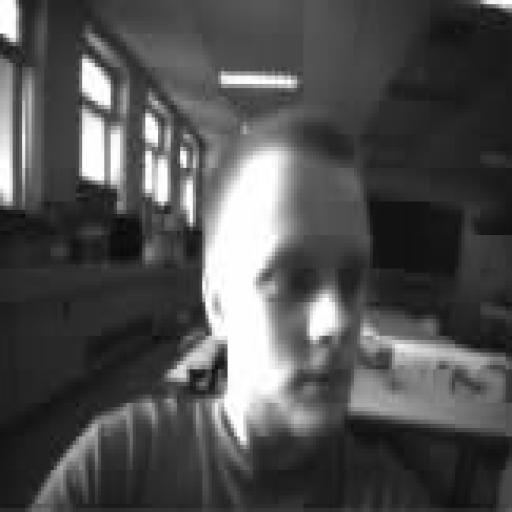human: (32, 110, 429, 511)
